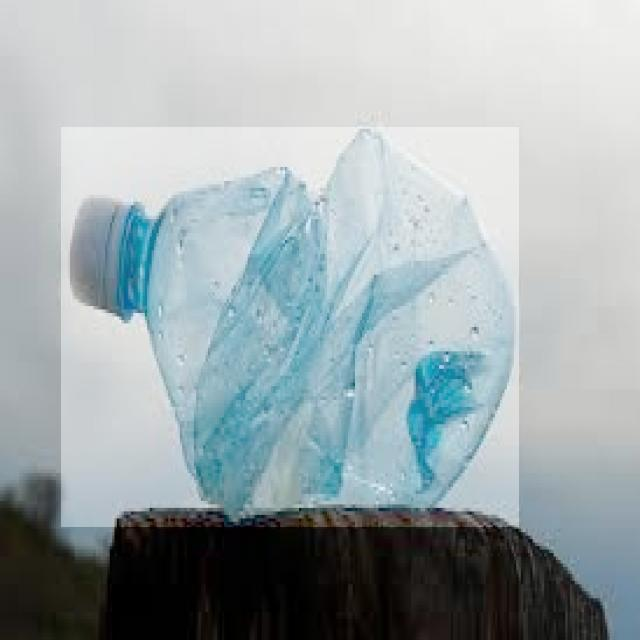bottle: (61, 127, 519, 527)
cap: (69, 190, 140, 322)
